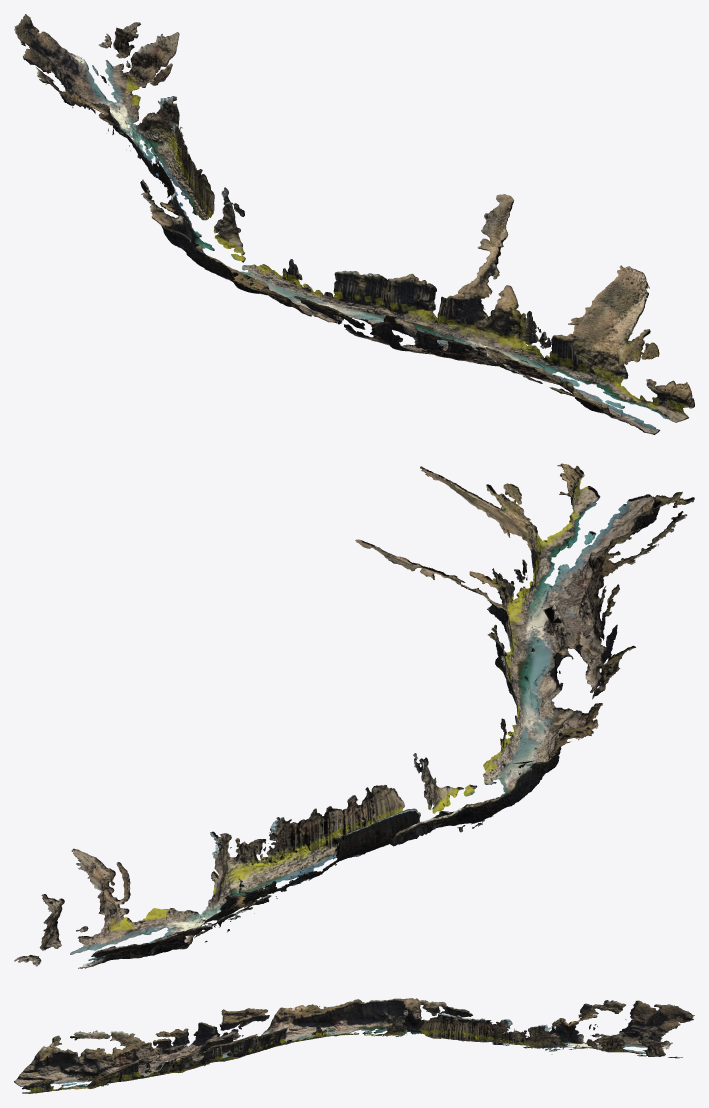
Rendered from sf-iceland-basalt-canyon-8a1440.glb.
The picture shows the model from 3 angles, top to bottom: view 1: azimuth 30°, elevation 25°; view 2: azimuth 150°, elevation 25°; view 3: azimuth 270°, elevation 25°; orthographic projection. The views are drawn at different scales.
Visible parts, largest first — view 1: Object_2; view 2: Object_2; view 3: Object_2.
Part boxes in pixels (x1,y1,x2,y2): Object_2: (14,14,694,434); Object_2: (14,463,694,968); Object_2: (14,998,694,1093).
Size of the model in its own units: 64.28 by 21.69 by 214.
Materials: 1 (1 with a texture image).
